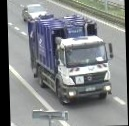truck: (28, 13, 114, 105)
